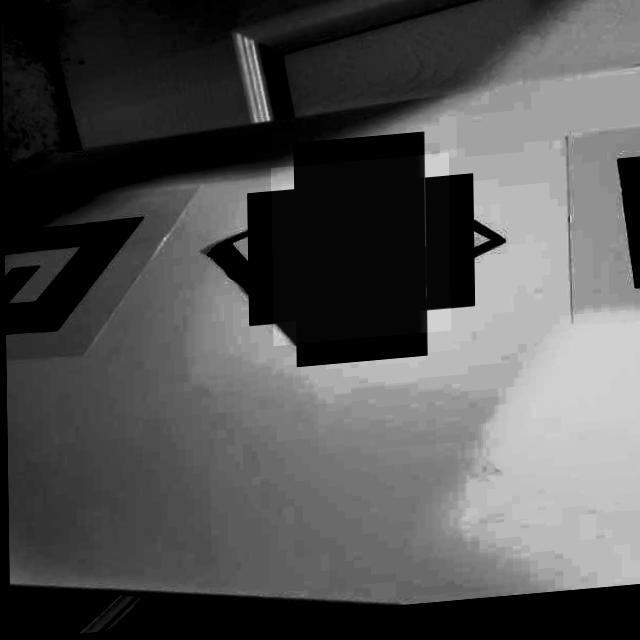qr_code: (269, 161, 449, 352)
